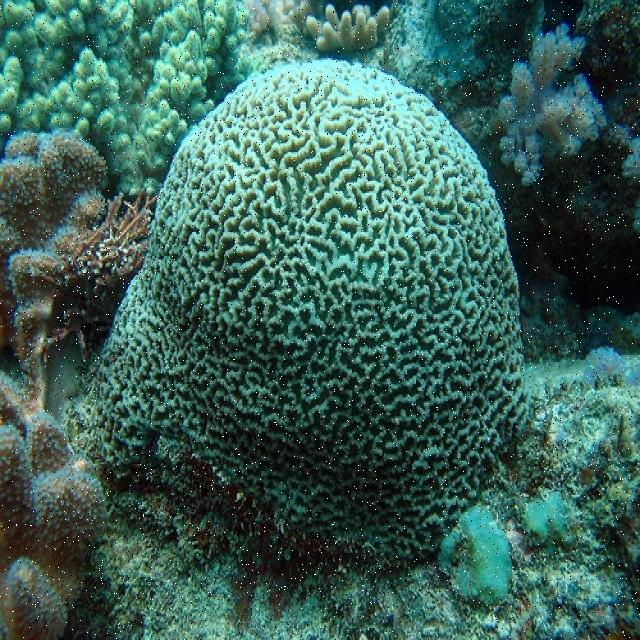aquatic plants: (47, 184, 158, 372)
reefs: (59, 59, 527, 571), (0, 131, 103, 429), (0, 0, 142, 195), (0, 412, 108, 638), (125, 1, 256, 180), (491, 26, 607, 182), (306, 5, 390, 53)
